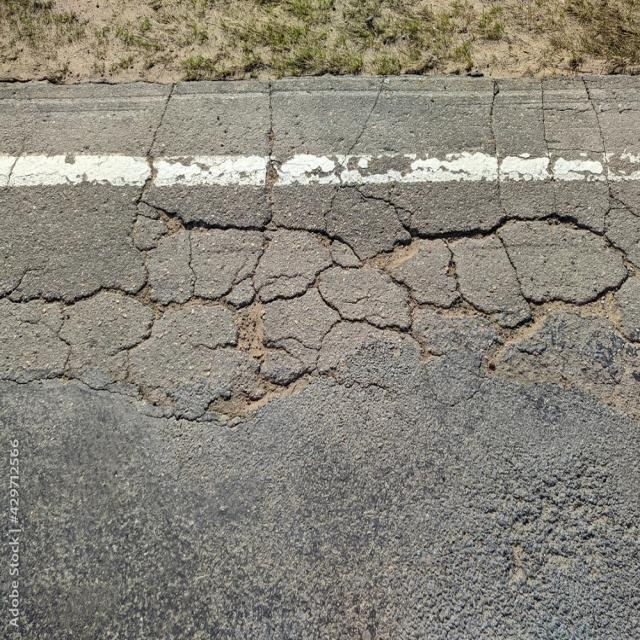Drain Hole: (43, 188, 624, 444)
